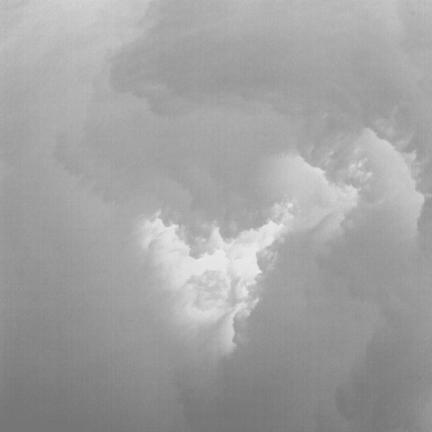flukeprints: (142, 213, 190, 257), (227, 240, 267, 285), (191, 249, 228, 275)
